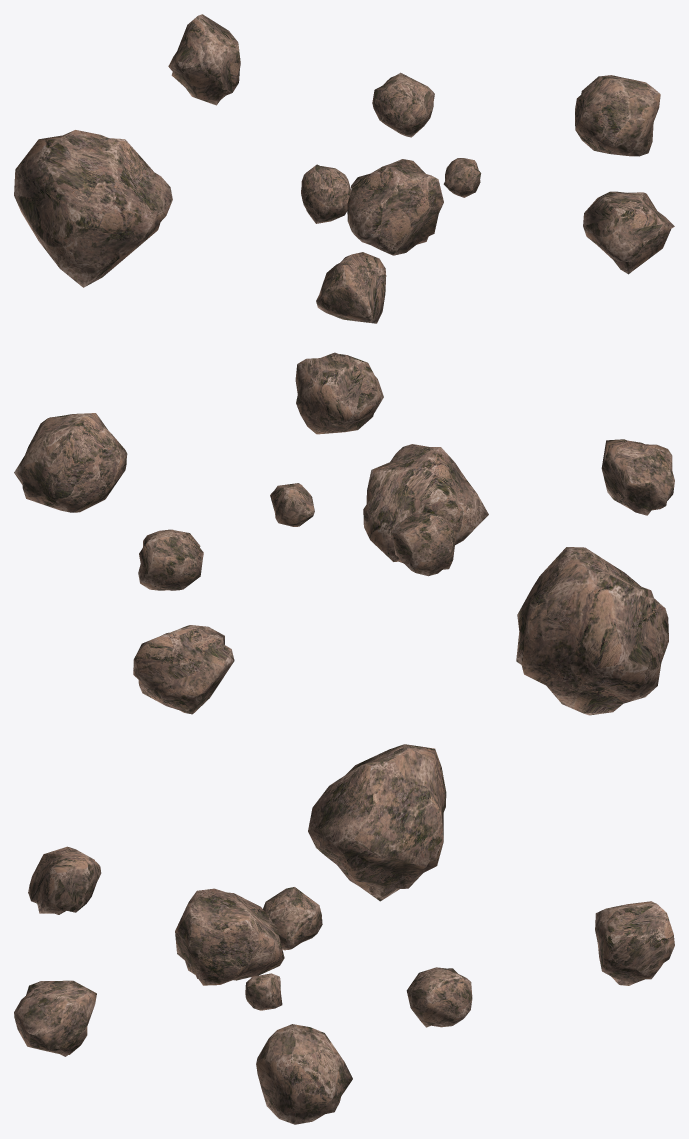
File: Soul Rock.obj
The picture shows the model from 3 angles, top to bottom: view 1: azimuth 30°, elevation 25°; view 2: azimuth 150°, elevation 25°; view 3: azimuth 270°, elevation 25°; orthographic projection. The views are drawn at different scales.
Visible parts, largest first — view 1: SM_Soul_Rock_01; view 2: SM_Soul_Rock_01; view 3: SM_Soul_Rock_01.
Boxes of the visible parts, left/top/right/bottom form: SM_Soul_Rock_01: left=14, top=14, right=674, bottom=323; SM_Soul_Rock_01: left=14, top=352, right=674, bottom=715; SM_Soul_Rock_01: left=14, top=744, right=674, bottom=1124.
Size of the model in its own units: 12040 by 2790 by 11331.
Materials: 1 (1 with a texture image).
